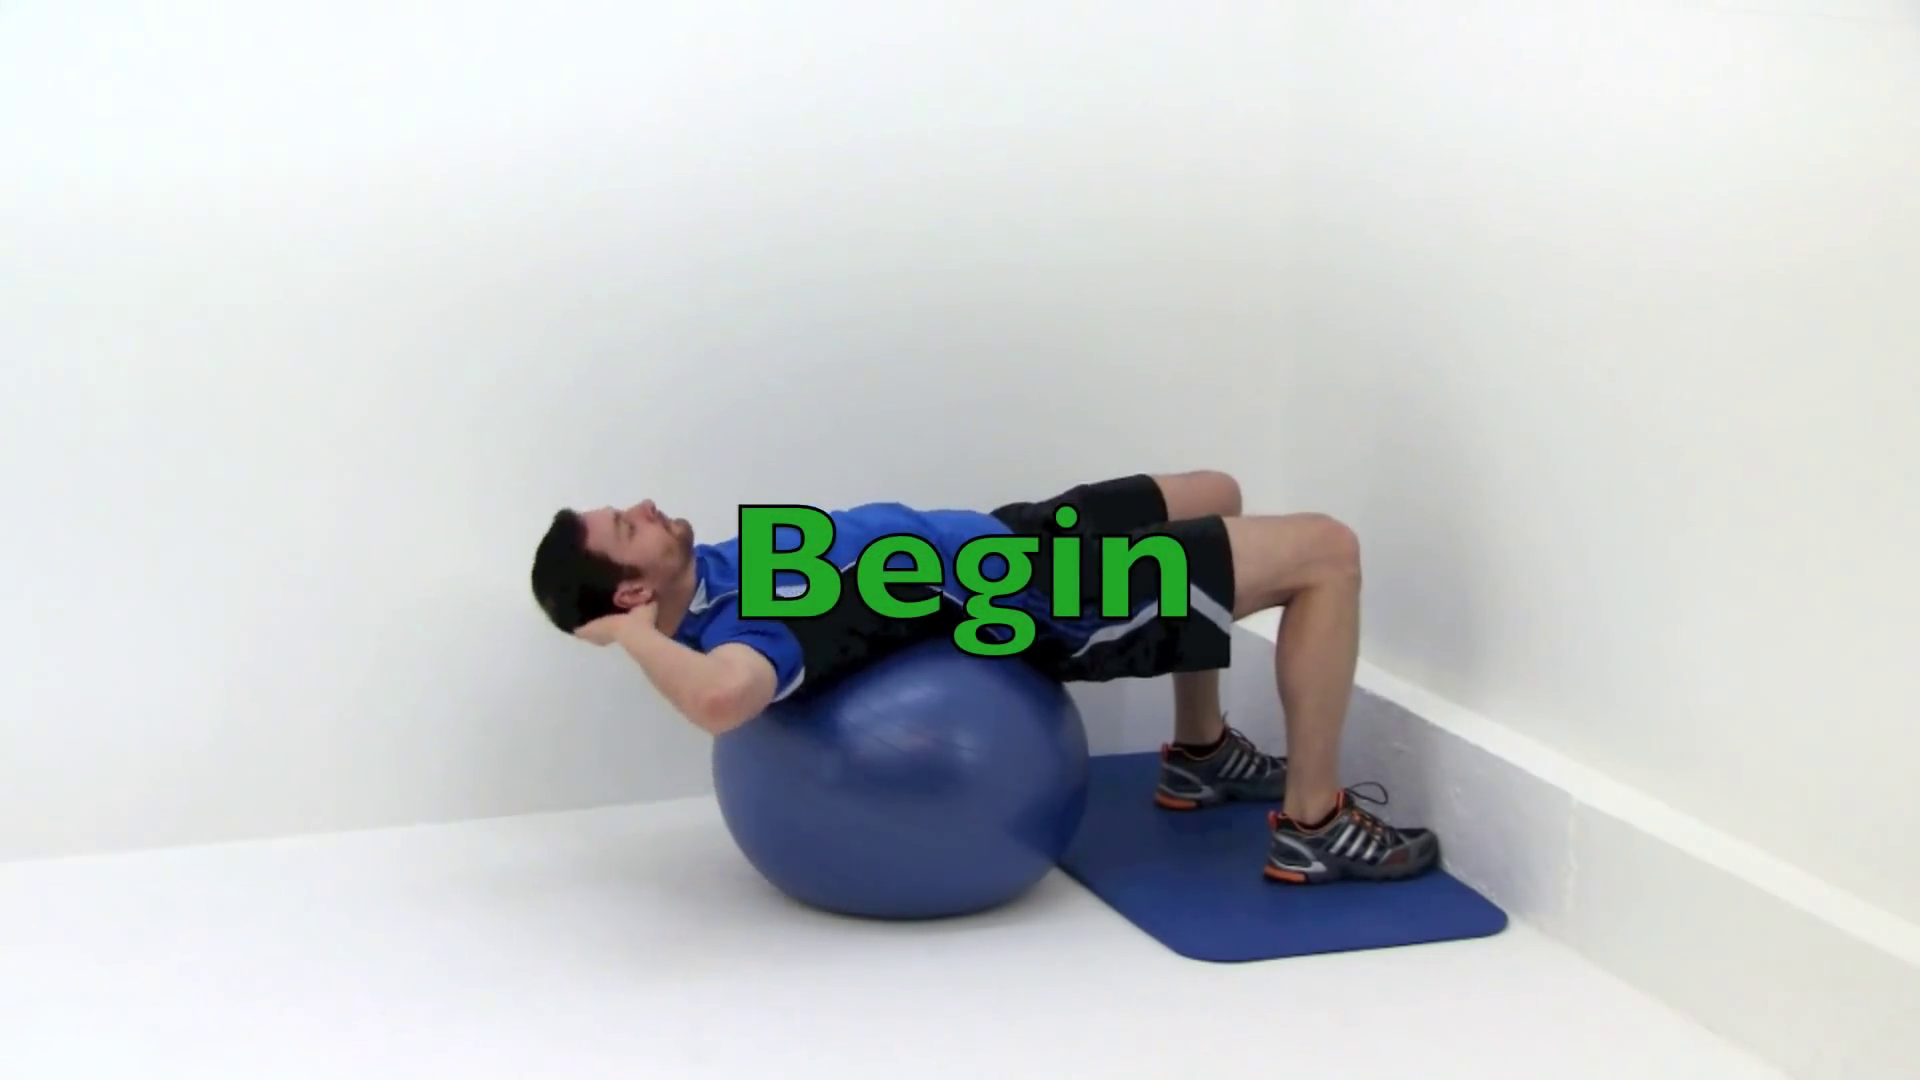yogaball: (695, 630, 1100, 943)
